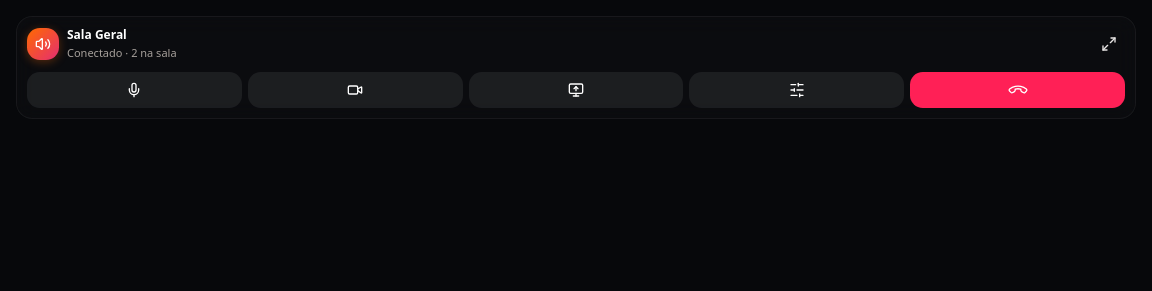
sensibilidade do microfone › diz que está silenciado quando a voz fica abaixo
The width and height of the screenshot is (1152, 291).
Click the button named "Configurações da chamada".
click(797, 90)  # box [689, 72, 904, 108]
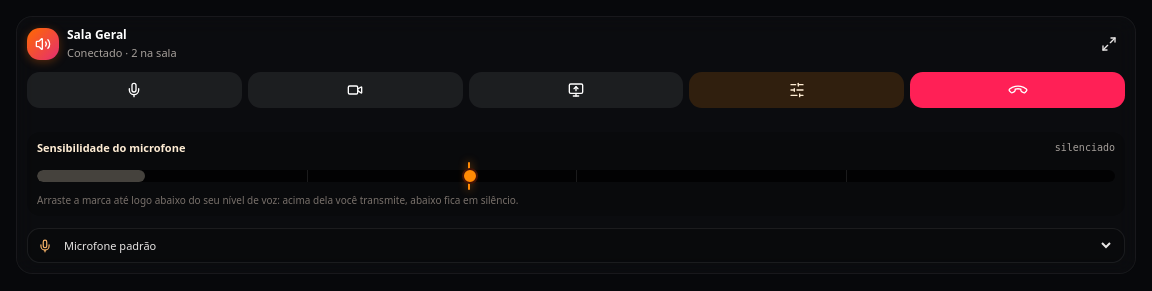
Expected: the text "silenciado" is shown, [1055, 140, 1115, 155]
